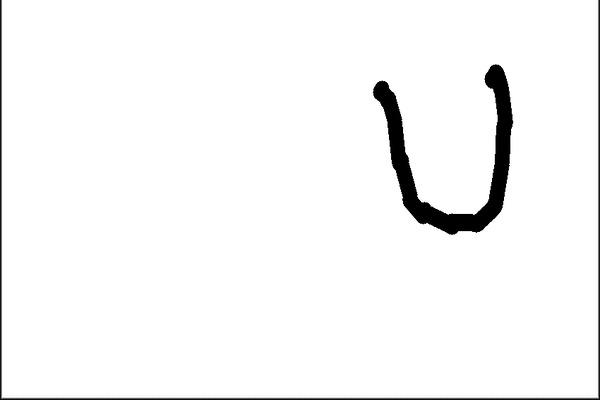U: (364, 57, 528, 238)
